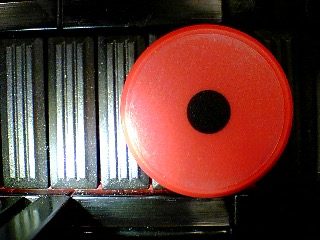BOHO: (120, 24, 293, 198)
